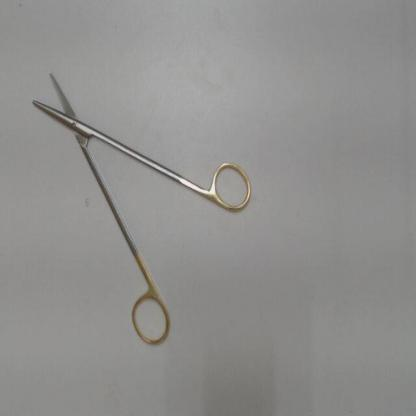7 Metzenbaum Scissors: (26, 59, 259, 355)
